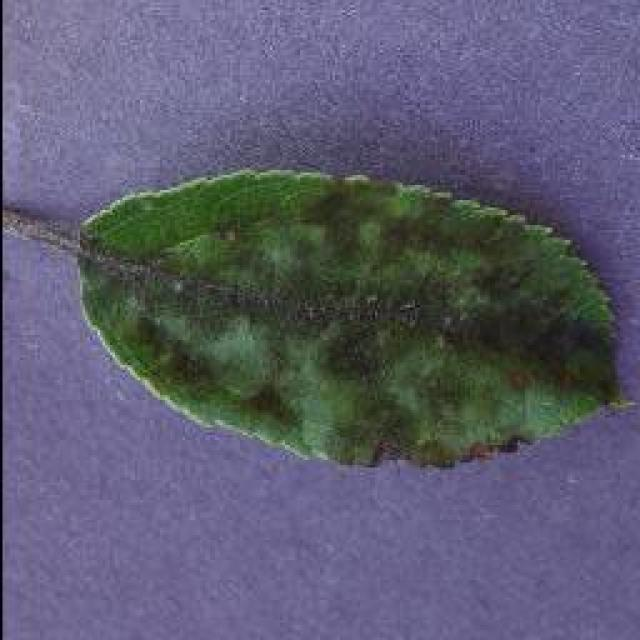apple scab disease: (75, 162, 627, 470)
